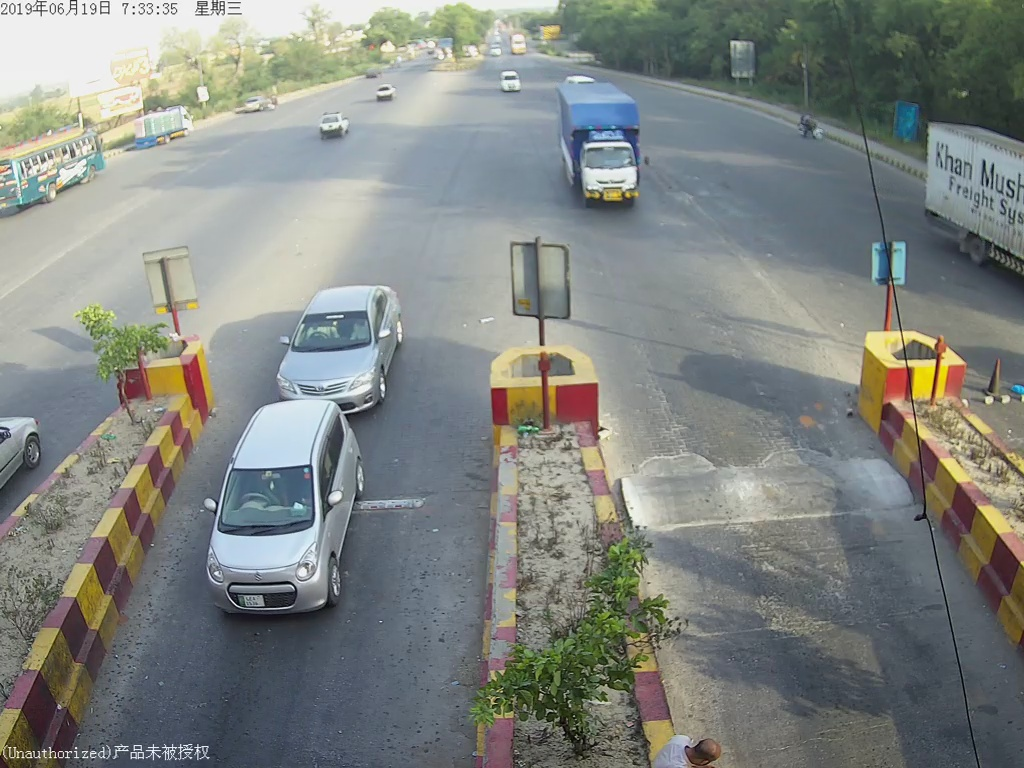Cat-1: (202, 408, 359, 622), (259, 288, 410, 403)
Cat-4: (551, 85, 659, 220)
